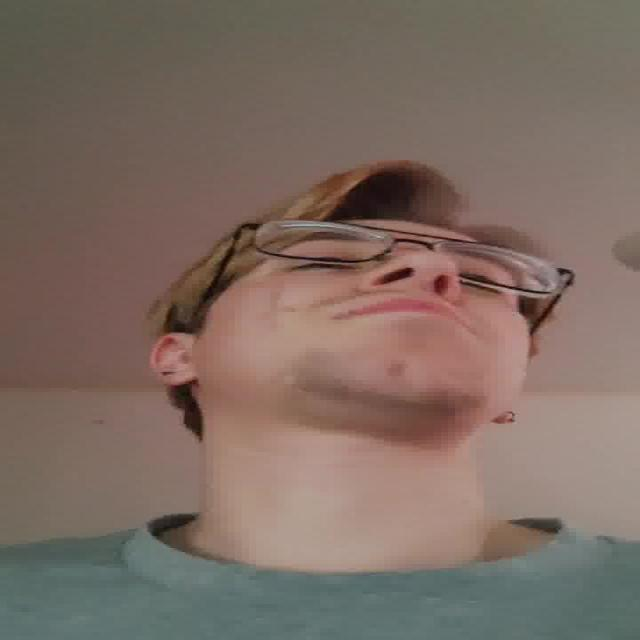earlobe: (150, 332, 202, 387)
